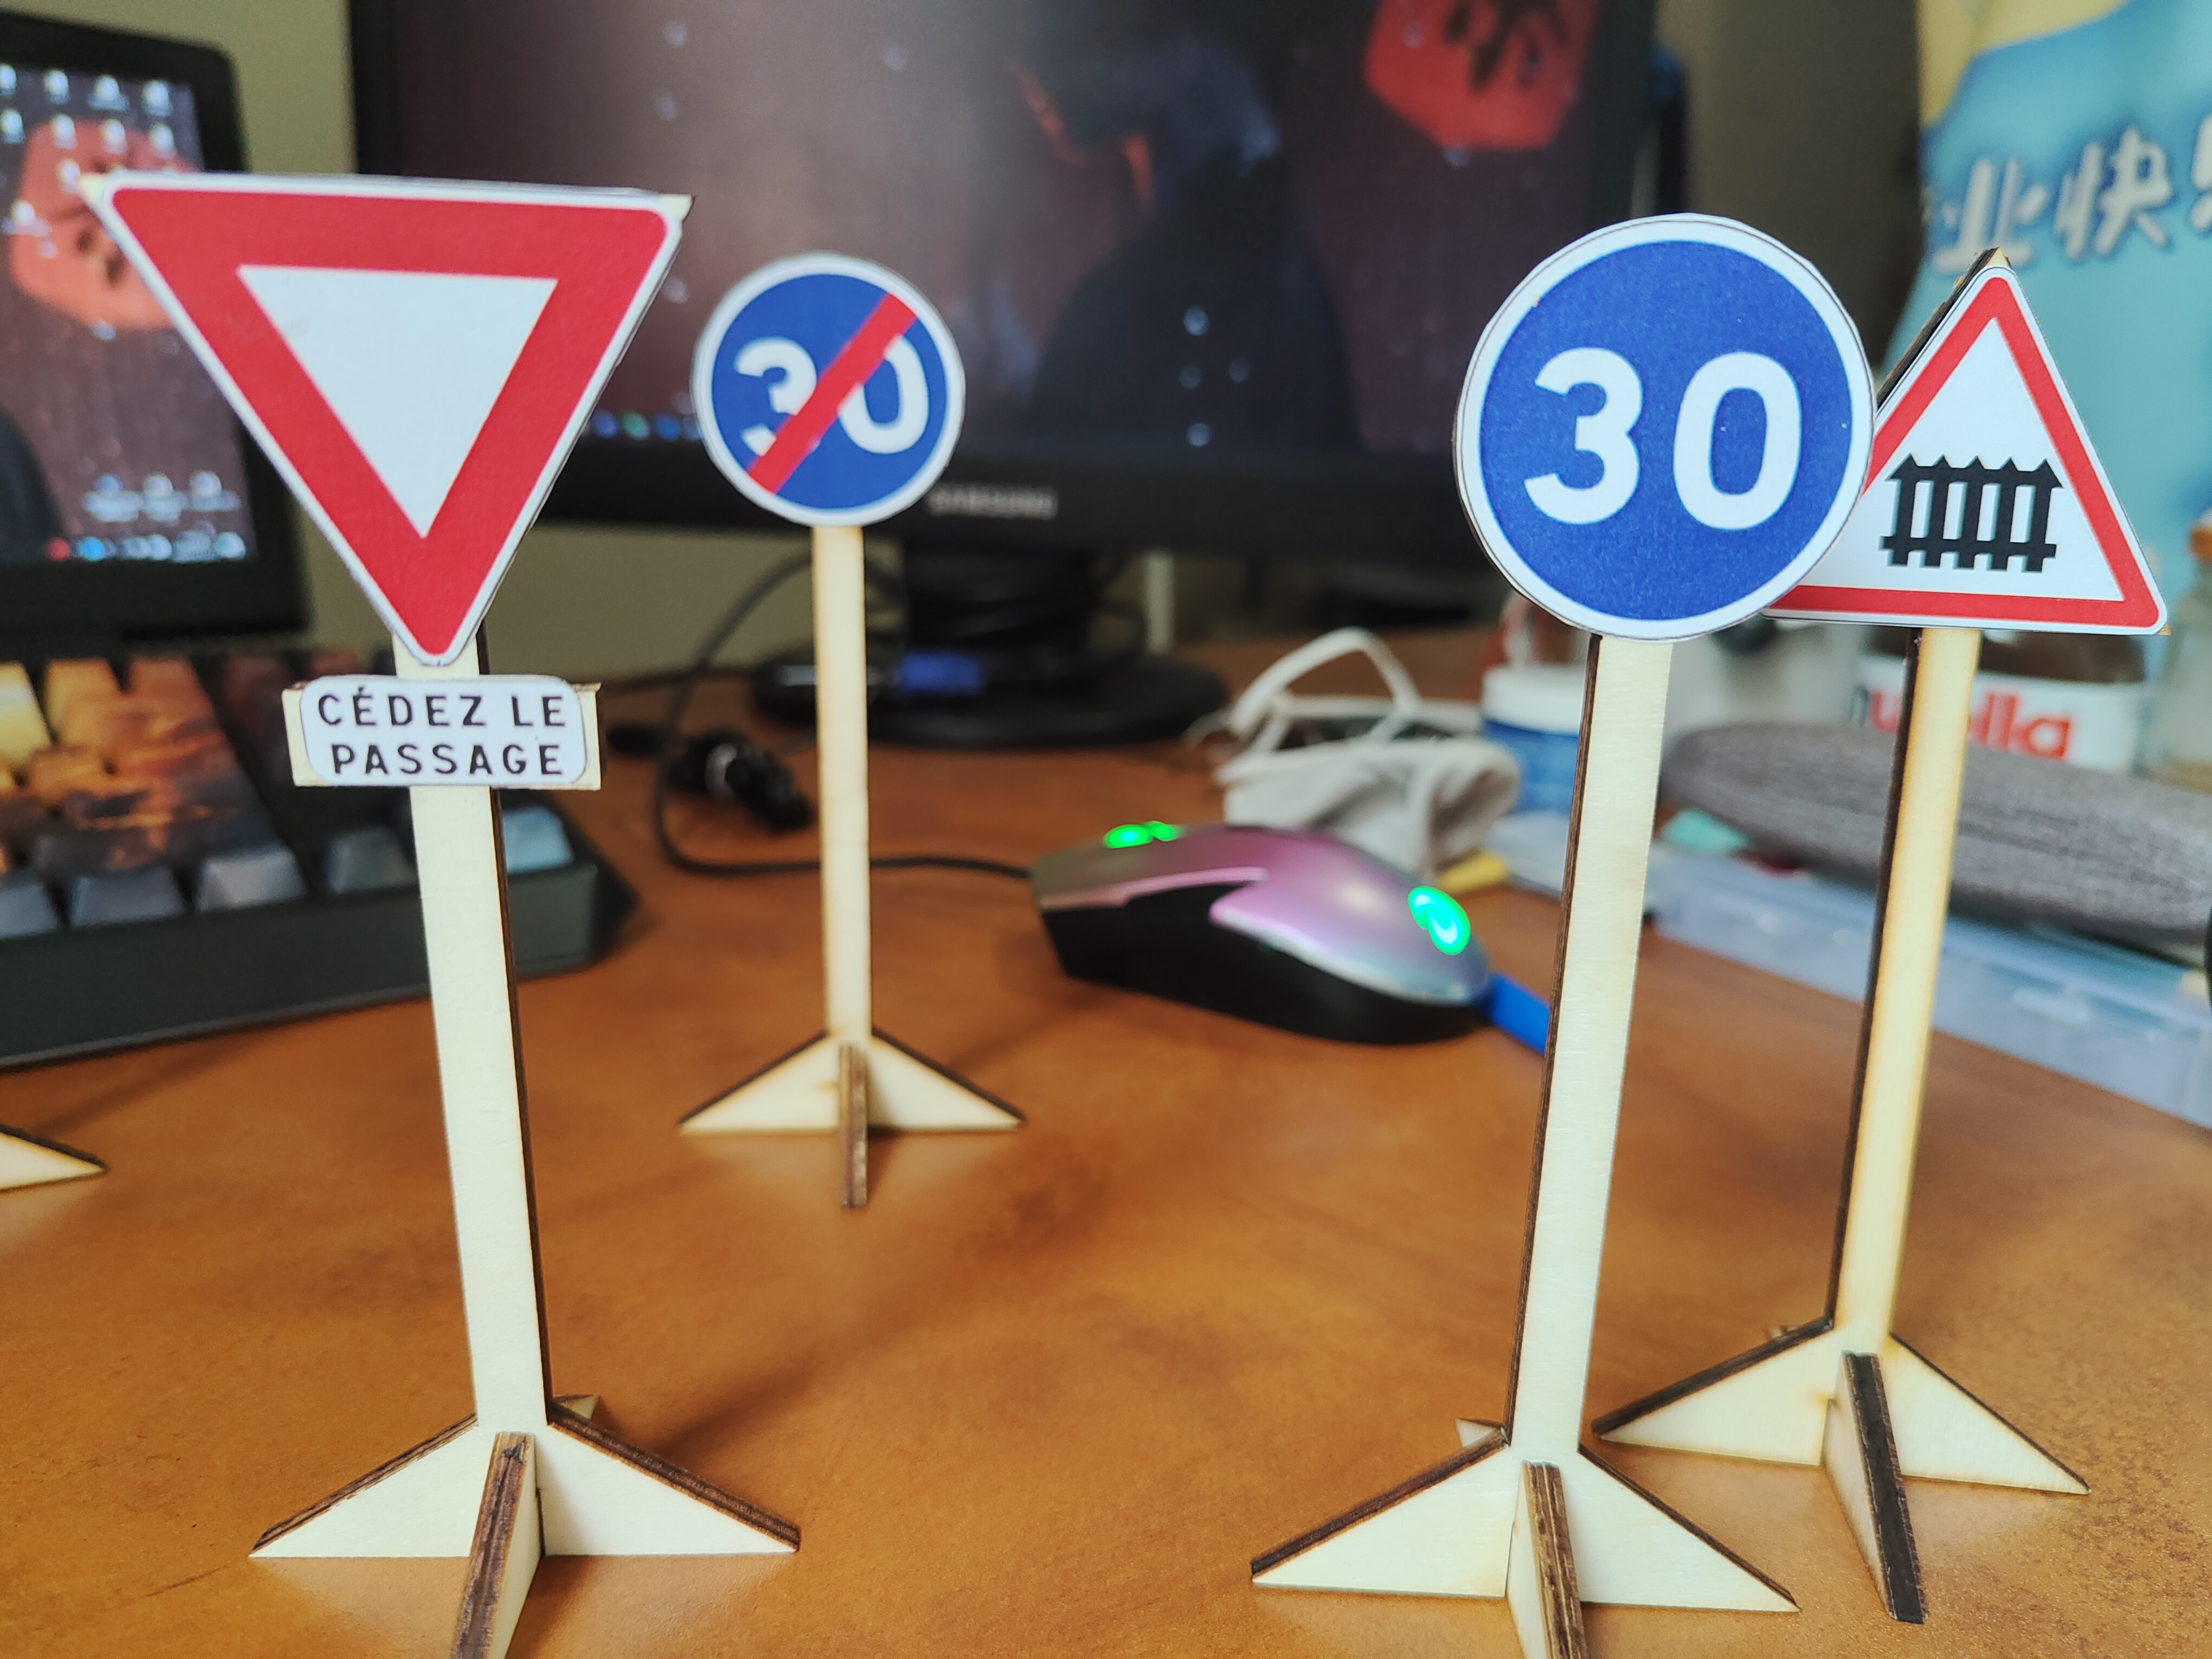ban: (695, 253, 977, 537)
second: (89, 174, 695, 809)
thirty: (1446, 204, 1864, 636)
train: (1763, 239, 2175, 633)
